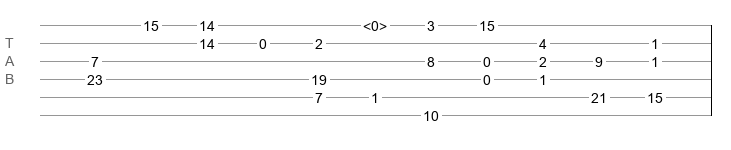0: (259, 36, 267, 46), (483, 54, 491, 64), (483, 72, 491, 82)
1: (371, 90, 379, 100), (539, 72, 547, 82), (651, 36, 659, 46), (651, 54, 659, 64)
10: (423, 108, 439, 118)
14: (199, 36, 215, 46), (199, 18, 215, 28)
15: (143, 18, 159, 28), (479, 18, 495, 28), (647, 90, 663, 100)
19: (311, 72, 327, 82)
2: (315, 36, 323, 46), (539, 54, 547, 64)
21: (591, 90, 607, 100)
23: (87, 72, 103, 82)
3: (427, 18, 435, 28)
4: (539, 36, 547, 46)
7: (91, 54, 99, 64), (315, 90, 323, 100)
8: (427, 54, 435, 64)
9: (595, 54, 603, 64)
harmonic: (363, 18, 387, 28)
